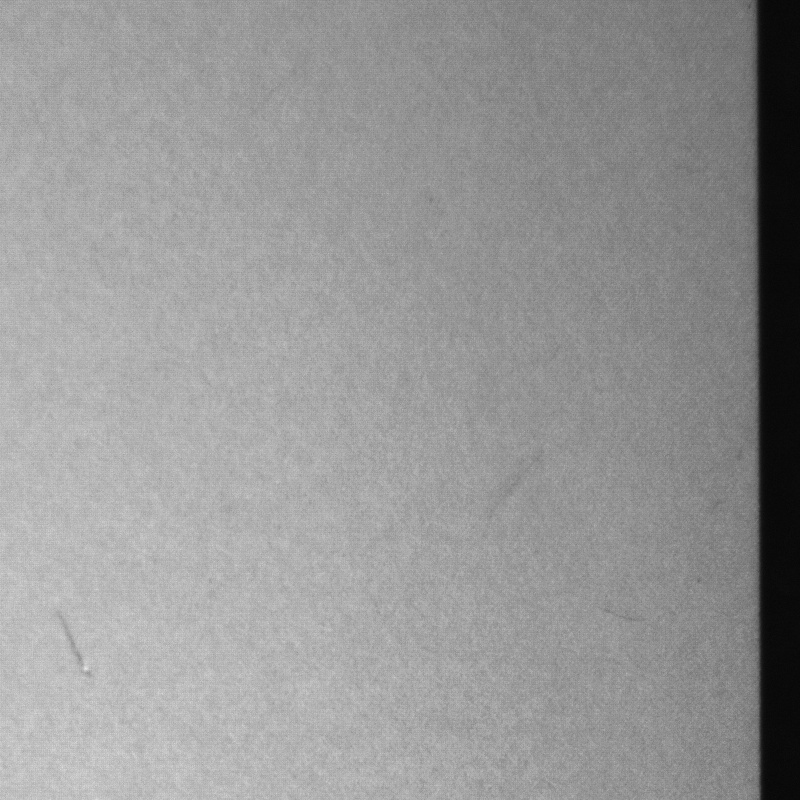defect: (490, 458, 542, 520), (56, 611, 101, 678), (597, 609, 646, 624)
